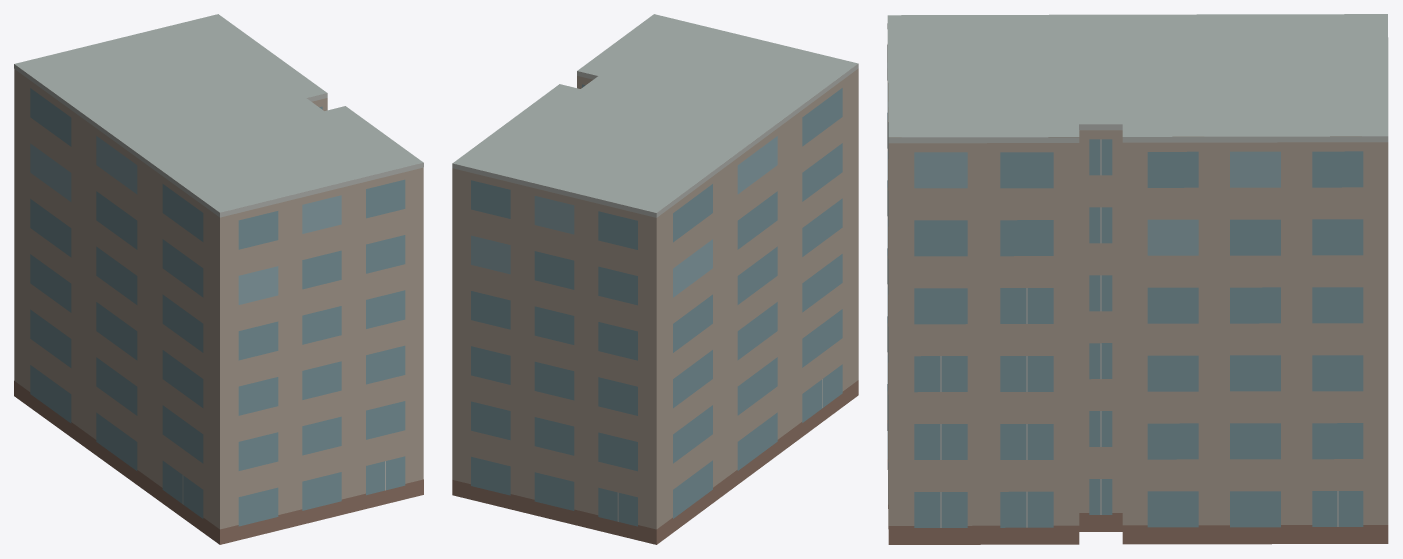
Rendered from survey-upis-32708670.glb.
3 views of the same model, side by side, from view 1: azimuth 30°, elevation 25°; view 2: azimuth 150°, elevation 25°; view 3: azimuth 270°, elevation 25° (orthographic). The views are drawn at different scales.
Parts seen in each view (by area): view 1: survey-upis-32708670.tmp; view 2: survey-upis-32708670.tmp; view 3: survey-upis-32708670.tmp.
Part boxes in pixels (x1,y1,x2,y2): survey-upis-32708670.tmp: (14, 14, 423, 544); survey-upis-32708670.tmp: (452, 14, 858, 544); survey-upis-32708670.tmp: (887, 14, 1388, 544).
Size of the model in its own units: 10.92 by 16.8 by 18.73.
